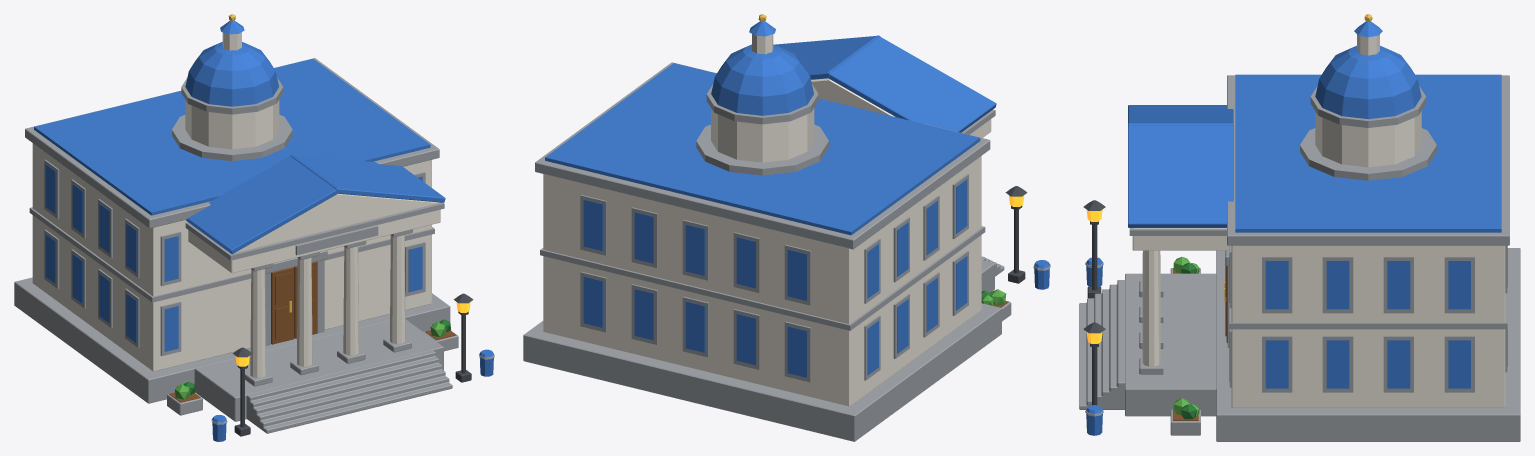
File: low-poly-courthouse.glb
The picture shows the model from 3 angles, left to right: view 1: azimuth 30°, elevation 25°; view 2: azimuth 150°, elevation 25°; view 3: azimuth 270°, elevation 25°; orthographic projection. The views are drawn at different scales.
Parts seen in each view (by area): view 1: Main_Block, Roof_Cap, Steps, Plinth, Pediment_Roof_L, Portico_Floor, Dome, Pediment_Roof_R, Cornice, Pediment, Dome_Drum, Entablature (+29 smaller); view 2: Main_Block, Roof_Cap, Plinth, Pediment_Roof_L, Cornice, Dome, Dome_Drum, Wall_Band, Dome_Base, Pediment_Roof_R, Dome_Ring, Pediment (+28 smaller); view 3: Roof_Cap, Main_Block, Plinth, Pediment_Roof_R, Portico_Floor, Cornice, Dome, Steps, Dome_Drum, Dome_Base, Wall_Band, Pediment_Roof_L (+22 smaller).
Boxes of the visible parts, x1,y1,x2,y2 form: Main_Block: (32, 143, 431, 371); Roof_Cap: (34, 58, 430, 215); Steps: (246, 350, 452, 433); Plinth: (14, 277, 450, 403); Pediment_Roof_L: (186, 154, 339, 254); Portico_Floor: (194, 319, 443, 421); Dome: (185, 42, 278, 106); Pediment_Roof_R: (290, 155, 445, 202); Cornice: (25, 58, 439, 228); Pediment: (235, 193, 438, 252); Dome_Drum: (185, 100, 279, 149); Entablature: (188, 209, 440, 273); Main_Block: (543, 156, 981, 406); Roof_Cap: (545, 63, 980, 235); Plinth: (523, 303, 1001, 441); Pediment_Roof_L: (826, 35, 996, 132); Cornice: (535, 62, 990, 249); Dome: (711, 44, 813, 115); Dome_Drum: (711, 108, 814, 162); Wall_Band: (540, 226, 985, 330); Dome_Base: (696, 124, 828, 175); Pediment_Roof_R: (774, 35, 880, 79); Dome_Ring: (706, 84, 818, 124); Pediment: (811, 78, 894, 116); Roof_Cap: (1235, 74, 1501, 232); Main_Block: (1231, 245, 1505, 407); Plinth: (1216, 248, 1520, 441); Pediment_Roof_R: (1128, 123, 1233, 227); Portico_Floor: (1125, 273, 1216, 416); Cornice: (1227, 75, 1509, 245); Dome: (1315, 45, 1421, 119); Steps: (1079, 280, 1125, 409); Dome_Drum: (1315, 111, 1421, 167); Dome_Base: (1300, 128, 1436, 180); Wall_Band: (1229, 287, 1507, 329); Pediment_Roof_L: (1128, 105, 1233, 125).
Size of the model in its own units: 52 by 50 by 58.
